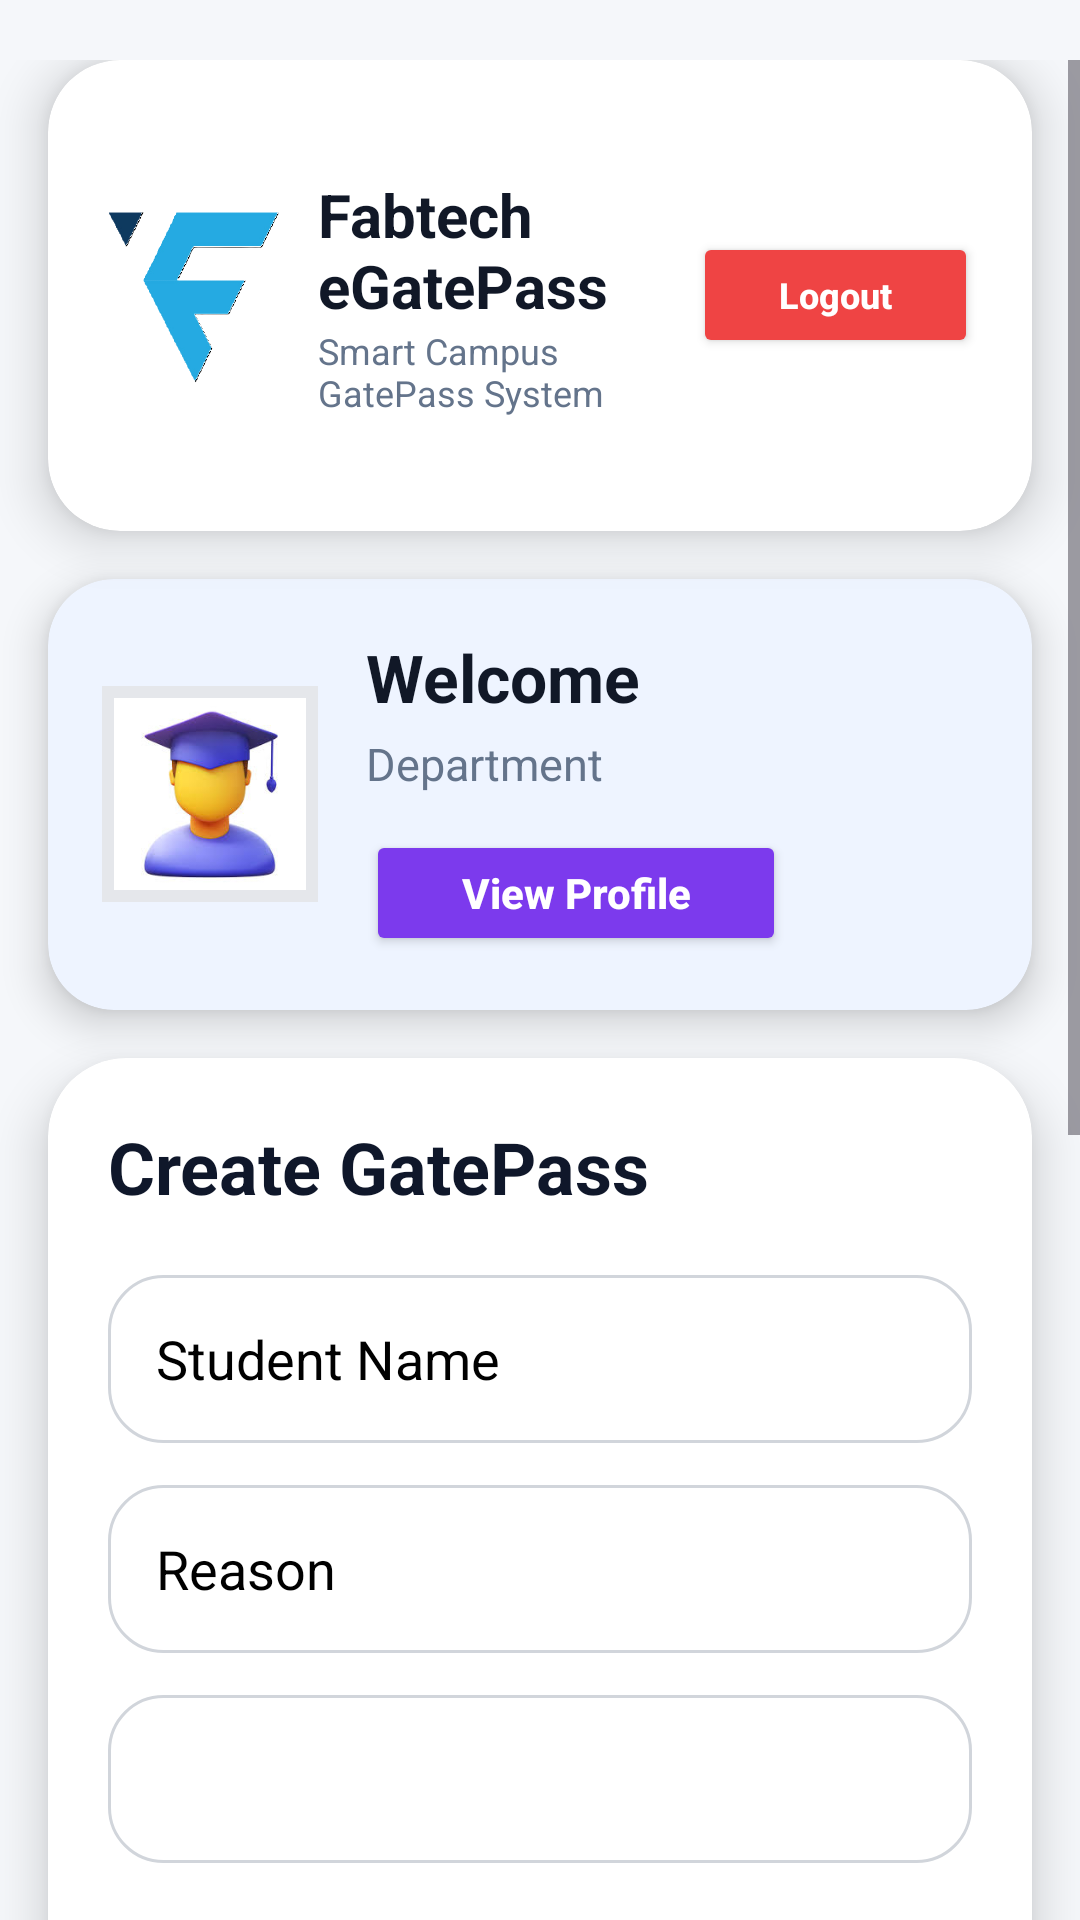

Where to tap for icons on this 1080*1920 app screen, as (x,y):
student: (211,794)
